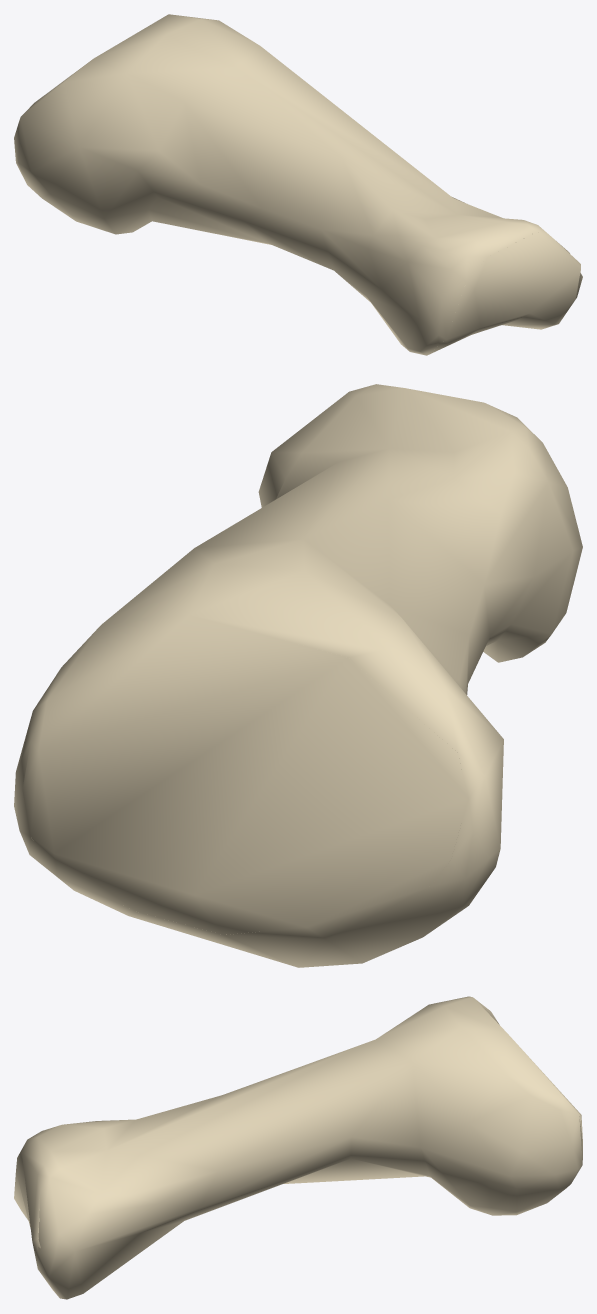
The model's file is esqueleto-proximal-phalanx-of-fifth-finger-of-foot-l.glb.
The picture shows the model from 3 angles, top to bottom: view 1: azimuth 30°, elevation 25°; view 2: azimuth 150°, elevation 25°; view 3: azimuth 270°, elevation 25°; orthographic projection. The views are drawn at different scales.
Parts seen in each view (by area): view 1: Proximal phalanx of fifth finger of foot.l; view 2: Proximal phalanx of fifth finger of foot.l; view 3: Proximal phalanx of fifth finger of foot.l.
Boxes of the visible parts, bbox=[...] form: Proximal phalanx of fifth finger of foot.l: bbox=[14, 14, 582, 355]; Proximal phalanx of fifth finger of foot.l: bbox=[14, 384, 582, 967]; Proximal phalanx of fifth finger of foot.l: bbox=[14, 996, 582, 1299].
Bounding box in the file's own units: 0.0183 × 0.0104 × 0.0267.
